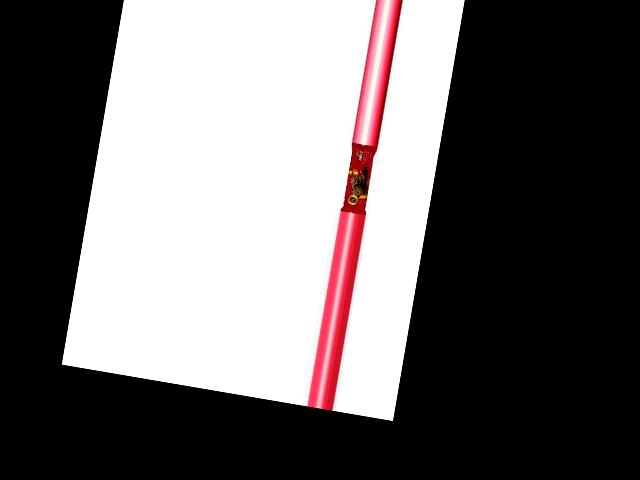chocolate: (341, 142, 379, 214)
